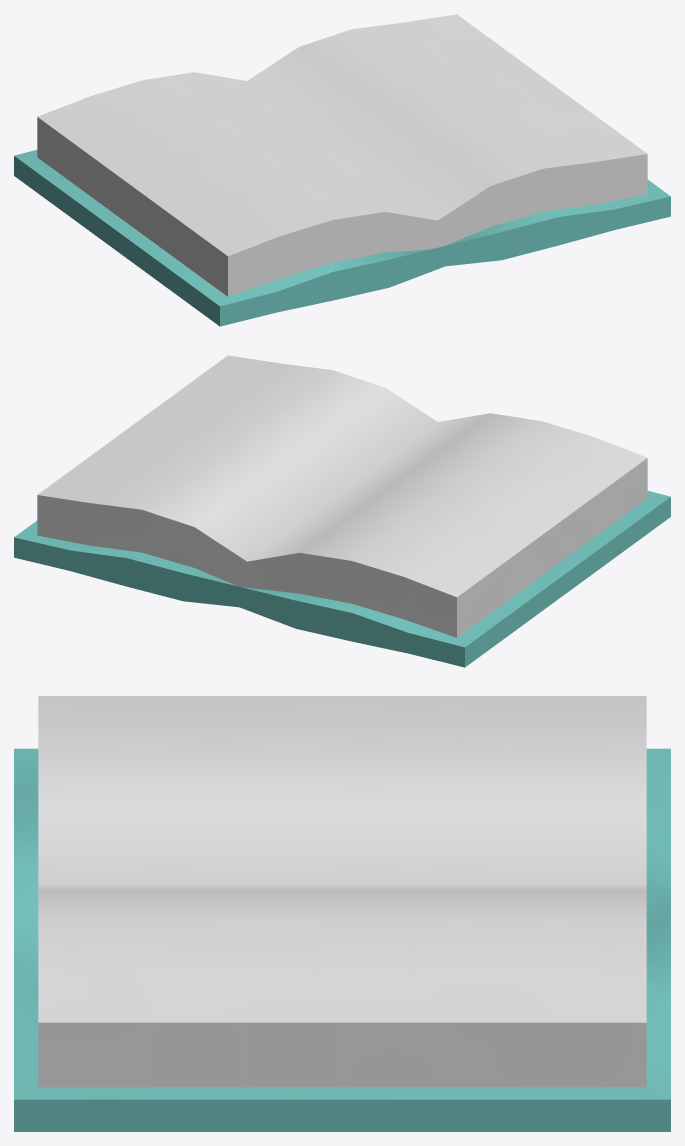
Rendered from Book_02_04.fbx.
3 views of the same model, one above another, from view 1: azimuth 30°, elevation 25°; view 2: azimuth 150°, elevation 25°; view 3: azimuth 270°, elevation 25° (orthographic). The views are drawn at different scales.
Visible parts, largest first — view 1: Book_02_04; view 2: Book_02_04; view 3: Book_02_04.
Part boxes in pixels (x1=…): Book_02_04: x1=14, y1=14, x2=670, y2=326; Book_02_04: x1=14, y1=355, x2=670, y2=667; Book_02_04: x1=14, y1=696, x2=670, y2=1131.
Size of the model in its own units: 0.4877 by 0.0766 by 0.3859.
